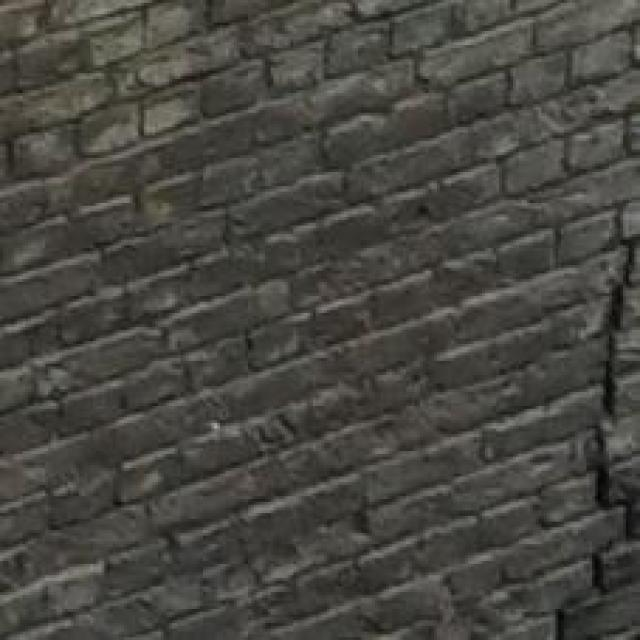Crack: (526, 139, 639, 640)
